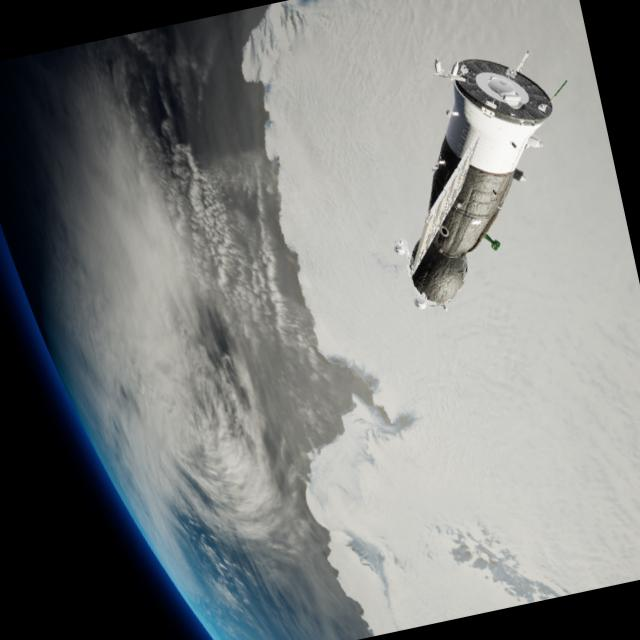Satellites revolving around earth: (362, 32, 592, 316)
